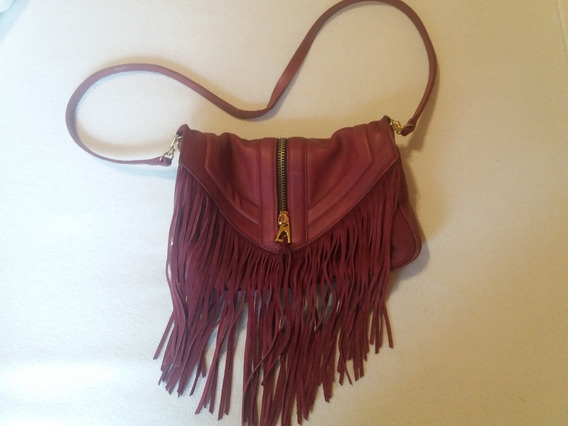cartera: (161, 3, 436, 418)
